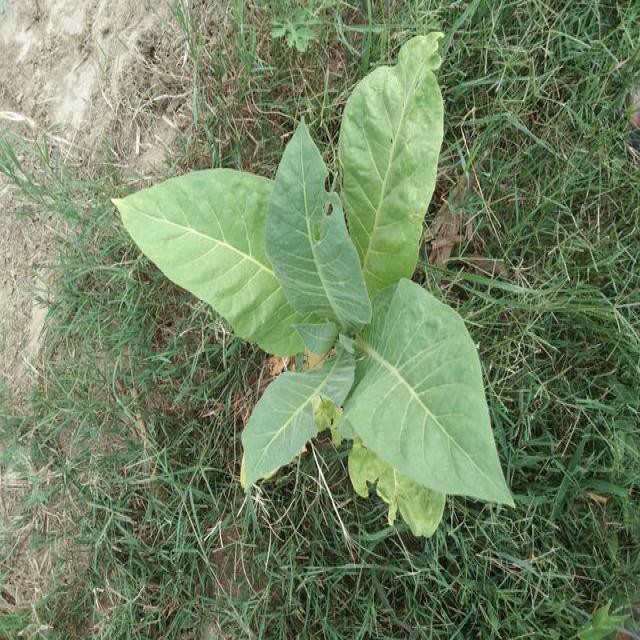crop: (115, 47, 543, 544)
